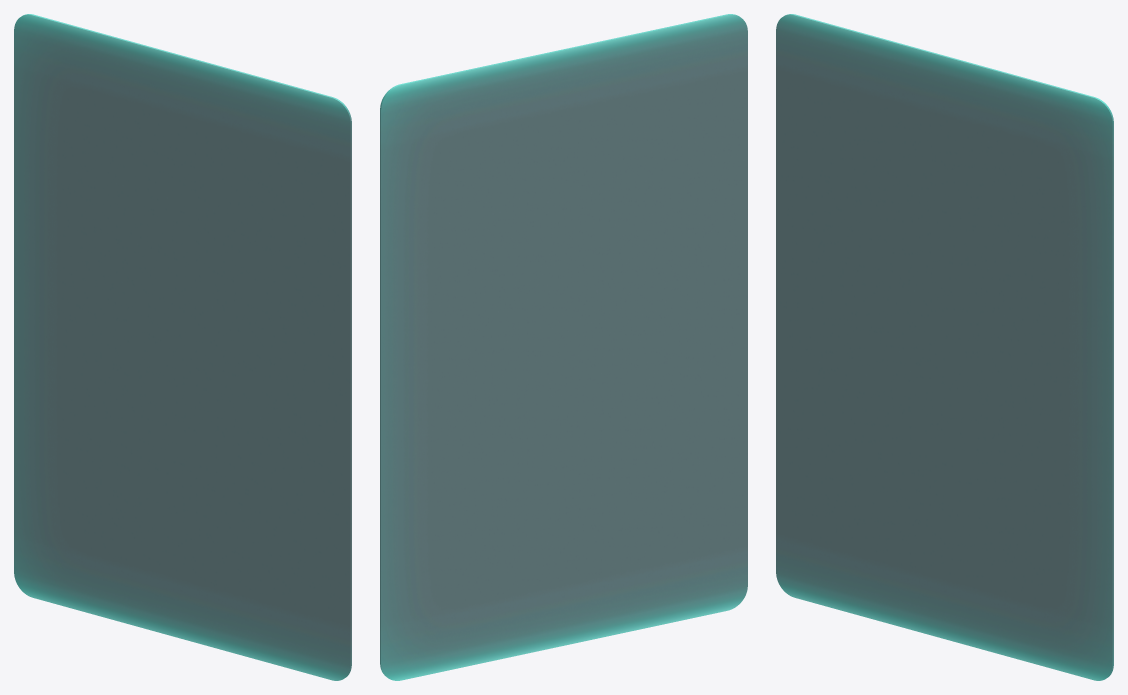
Rendered from card.glb.
3 renders of one model, left to right at view 1: azimuth 90°, elevation 25°; view 2: azimuth 150°, elevation 25°; view 3: azimuth 270°, elevation 25°, orthographic. The views are drawn at different scales.
Parts seen in each view (by area): view 1: Glass Card; view 2: Glass Card; view 3: Glass Card.
Boxes of the visible parts, left/top/right/bottom form: Glass Card: left=14, top=14, right=351, bottom=680; Glass Card: left=380, top=14, right=747, bottom=680; Glass Card: left=776, top=14, right=1113, bottom=680.
Bounding box in the file's own units: 0.043 × 0.1247 × 0.0655.
Materials: 1 (1 with a texture image).
